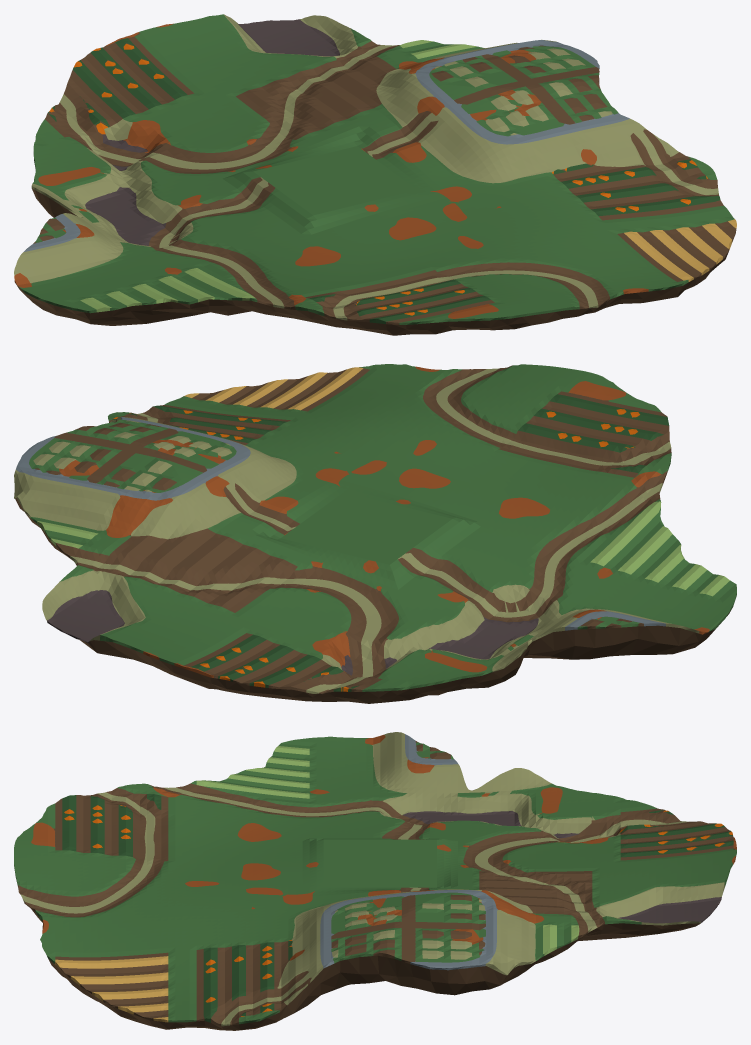
Rendered from halloween-night-terrain-e0482b.glb.
The picture shows the model from 3 angles, top to bottom: view 1: azimuth 30°, elevation 25°; view 2: azimuth 150°, elevation 25°; view 3: azimuth 270°, elevation 25°; orthographic projection. The views are drawn at different scales.
Parts seen in each view (by area): view 1: halloween-ground; view 2: halloween-ground; view 3: halloween-ground.
Part boxes in pixels (x1,y1,x2,y2): halloween-ground: [14, 14, 736, 335]; halloween-ground: [14, 364, 736, 703]; halloween-ground: [14, 732, 736, 1030].
Bounding box in the file's own units: 97.16 × 17.09 × 102.
